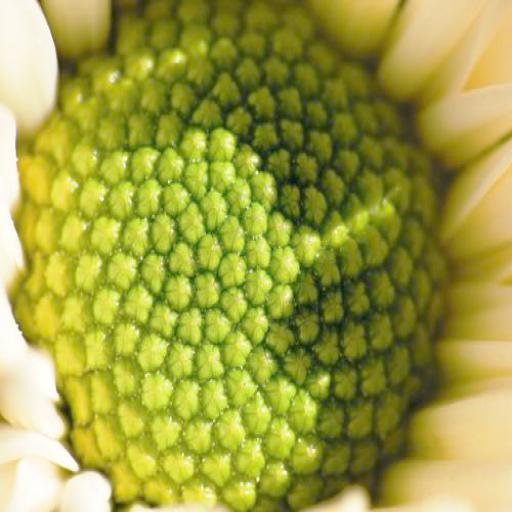sunflower: (4, 0, 509, 512)
